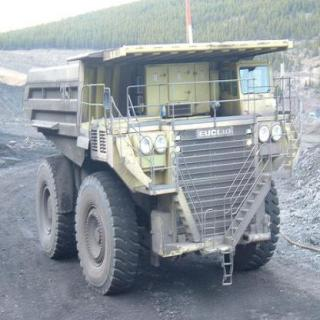Normal_vehicle: (21, 35, 304, 299)
